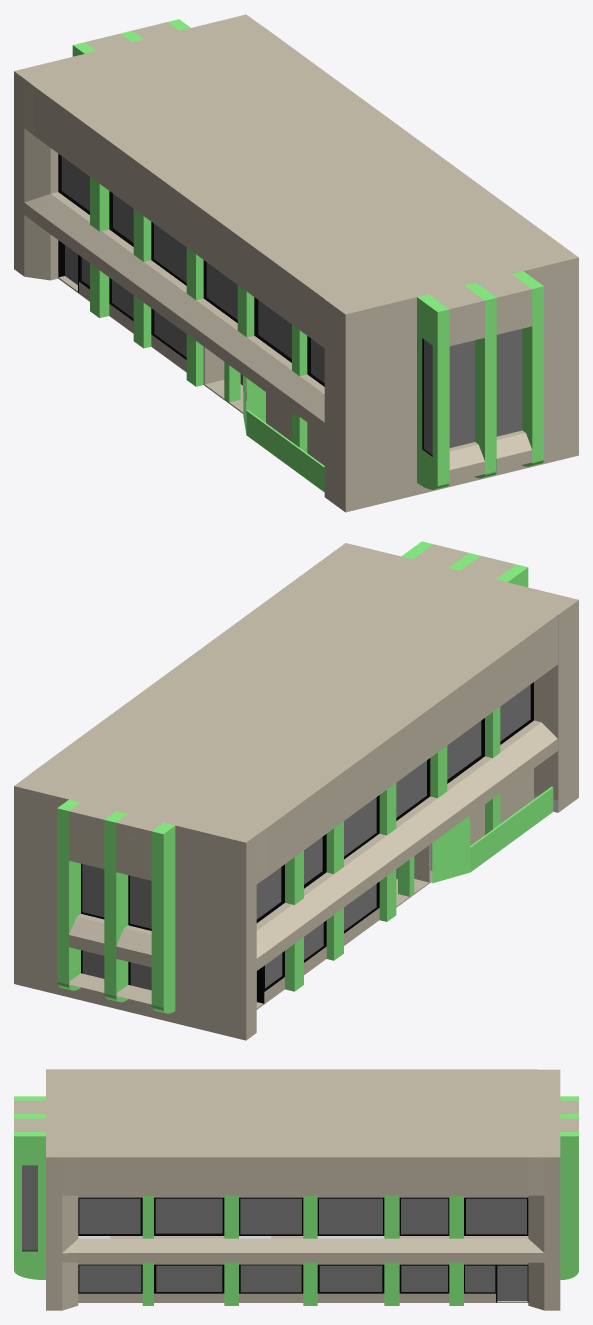
Rendered from edificioa.glb.
The picture shows the model from 3 angles, top to bottom: view 1: azimuth 30°, elevation 25°; view 2: azimuth 150°, elevation 25°; view 3: azimuth 270°, elevation 25°; orthographic projection. The views are drawn at different scales.
Parts seen in each view (by area): view 1: Cube; view 2: Cube; view 3: Cube.
Boxes of the visible parts, box(x1,y1,x2,y2) form: Cube: box(14, 14, 578, 512); Cube: box(14, 541, 578, 1040); Cube: box(14, 1069, 578, 1310).
Bounding box in the file's own units: 17.93 × 14.56 × 48.54.
